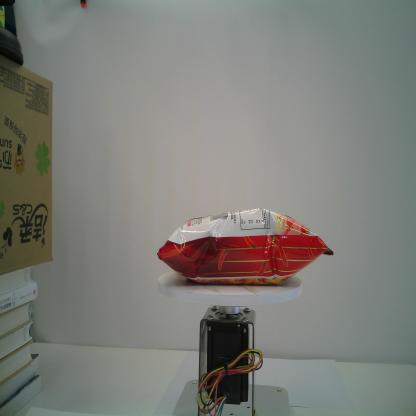Puffed Food: (155, 206, 334, 286)
